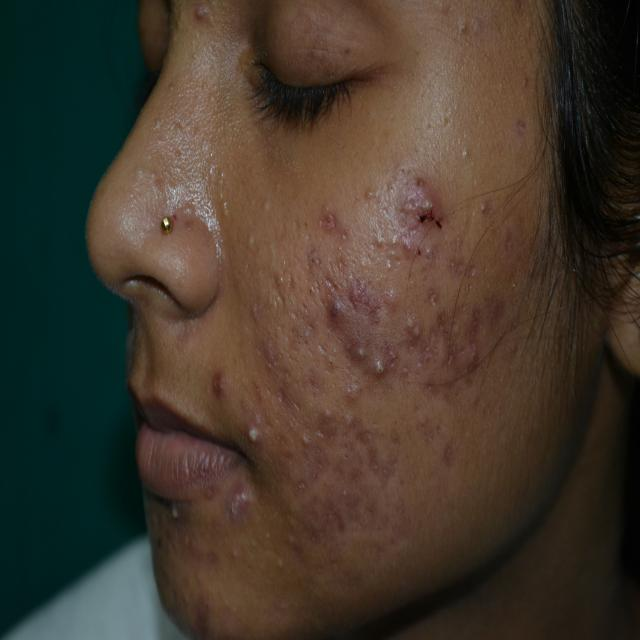Acne: (288, 188, 502, 496)
Oily-Skin: (155, 24, 505, 628)
